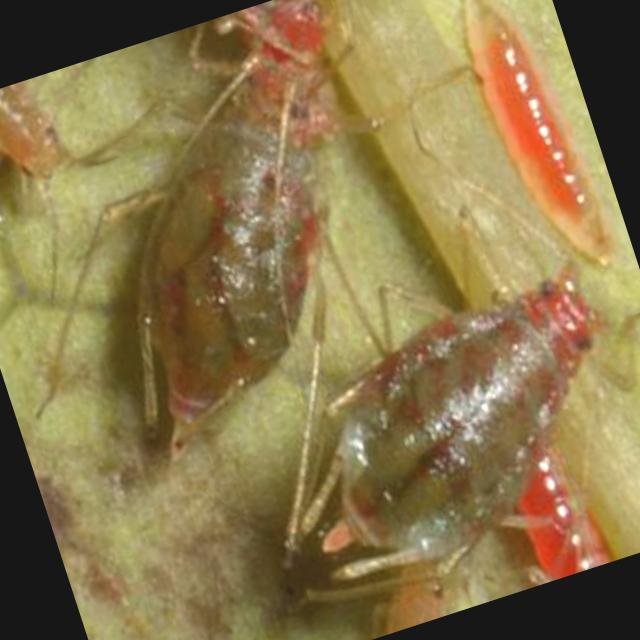Green peach aphid: (2, 0, 461, 486), (217, 249, 640, 621), (426, 0, 640, 308), (0, 68, 103, 249)
